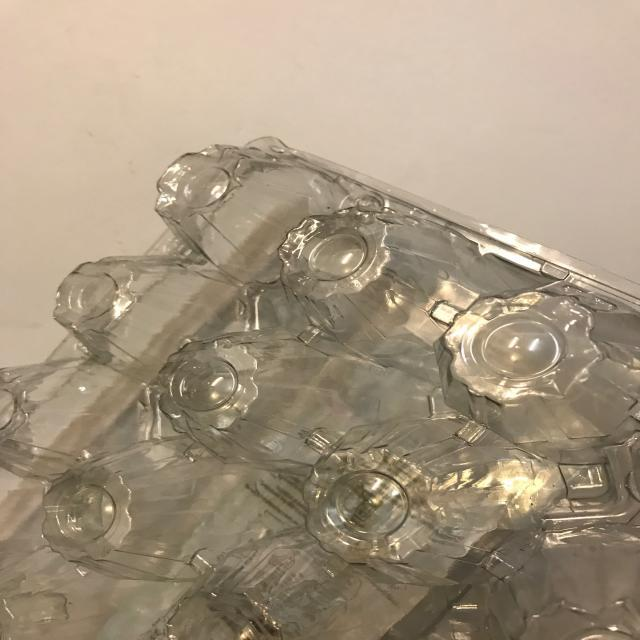plastic: (2, 128, 640, 639)
